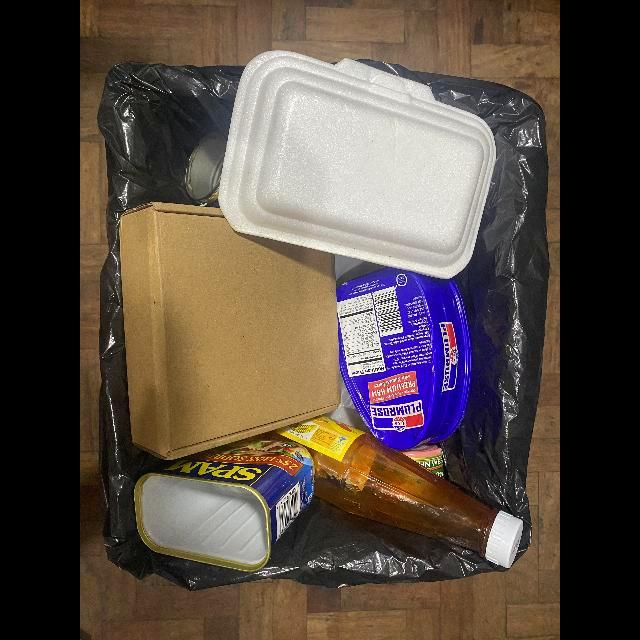aluminum: (337, 268, 472, 451), (133, 440, 314, 573), (185, 132, 227, 208), (400, 445, 444, 478)
cardboard: (119, 203, 342, 461)
glass_bottle: (272, 416, 523, 567)
